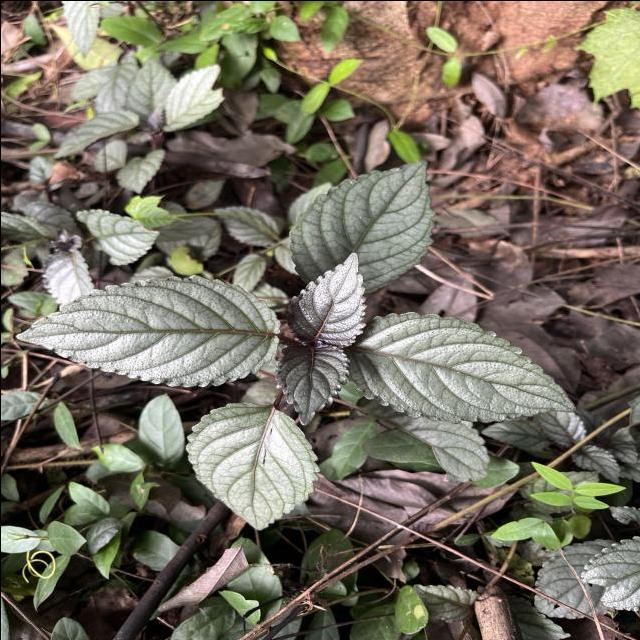Hemigraphis colorata: (10, 272, 282, 389), (348, 308, 584, 425), (285, 156, 440, 298), (182, 399, 322, 531), (280, 250, 370, 349), (272, 340, 351, 427)
